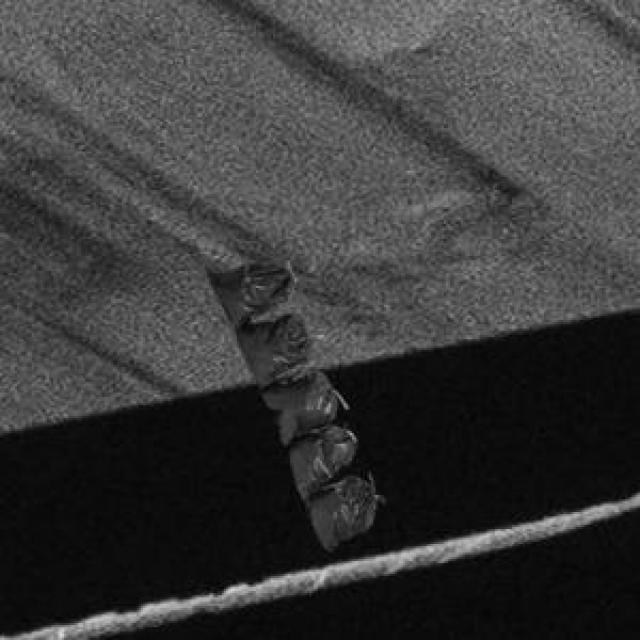miscellaneous trash: (203, 260, 373, 546)
